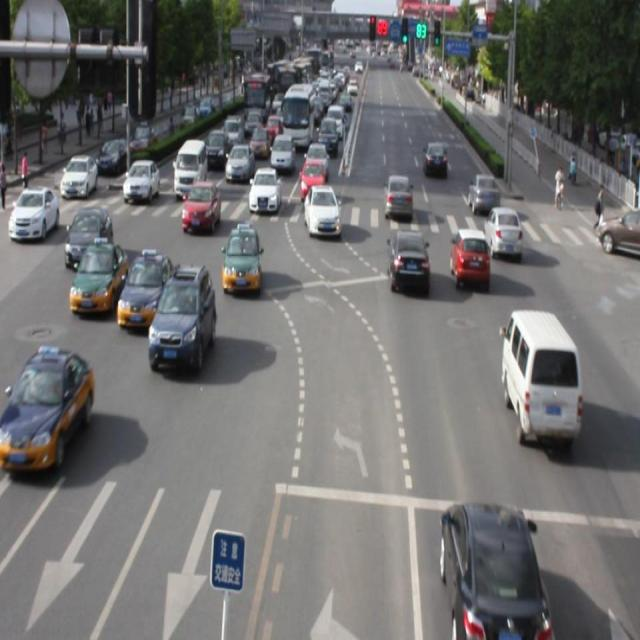car: (442, 501, 550, 640), (0, 342, 94, 473), (148, 262, 214, 372), (70, 236, 127, 320), (118, 249, 174, 328), (386, 228, 431, 292), (222, 228, 262, 292), (450, 229, 490, 290), (484, 204, 521, 258), (183, 179, 220, 233), (304, 183, 340, 238), (247, 167, 281, 211), (385, 173, 414, 220)
truck: (500, 308, 579, 446)
